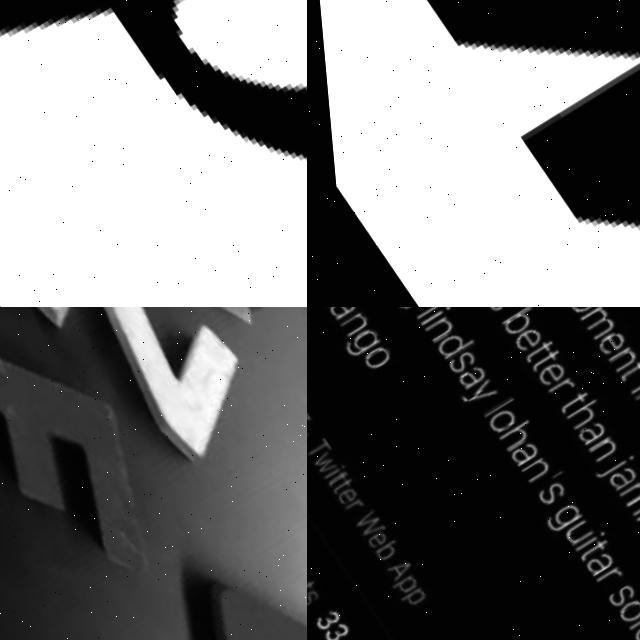3: (307, 605, 333, 632), (310, 618, 341, 640)
A: (566, 415, 603, 446), (596, 461, 632, 490), (573, 548, 609, 577), (449, 362, 484, 390), (500, 438, 535, 465), (376, 554, 407, 580), (320, 307, 356, 320)
B: (495, 307, 538, 336), (363, 537, 393, 561)
D: (427, 323, 473, 360)
E: (0, 307, 193, 633), (588, 324, 626, 356), (528, 356, 565, 388), (505, 321, 542, 352), (325, 483, 351, 506), (355, 527, 381, 550), (626, 505, 640, 539)
G: (534, 499, 576, 534), (336, 323, 378, 358)
H: (555, 393, 601, 428), (490, 417, 534, 450)
I: (563, 526, 600, 550), (313, 462, 340, 480), (414, 307, 446, 322), (621, 370, 640, 394), (626, 498, 640, 519)
J: (585, 450, 630, 480)
L: (473, 392, 511, 417), (615, 605, 640, 628), (411, 307, 444, 317)
M: (572, 307, 613, 338), (610, 476, 640, 513)
N: (599, 343, 635, 372), (578, 433, 614, 462), (331, 309, 367, 338), (511, 454, 546, 482), (418, 314, 451, 342), (625, 380, 640, 410)
O: (602, 591, 640, 625), (477, 402, 515, 434), (352, 341, 389, 373), (617, 614, 640, 640), (559, 307, 598, 315)
P: (379, 572, 409, 596), (389, 584, 418, 608)
R: (583, 562, 616, 589), (542, 374, 569, 395), (334, 496, 357, 514)
S: (525, 477, 560, 504), (594, 580, 629, 607), (439, 347, 473, 374)
T: (521, 344, 558, 372), (567, 533, 602, 561), (551, 386, 587, 413), (516, 337, 551, 361), (610, 355, 640, 380), (317, 467, 343, 486), (307, 434, 326, 459), (322, 475, 347, 493)
U: (551, 516, 587, 545)
W: (369, 0, 640, 307), (132, 527, 307, 640), (343, 506, 378, 538), (307, 448, 331, 474)
Y: (451, 375, 495, 411)
Z: (0, 307, 292, 502)
